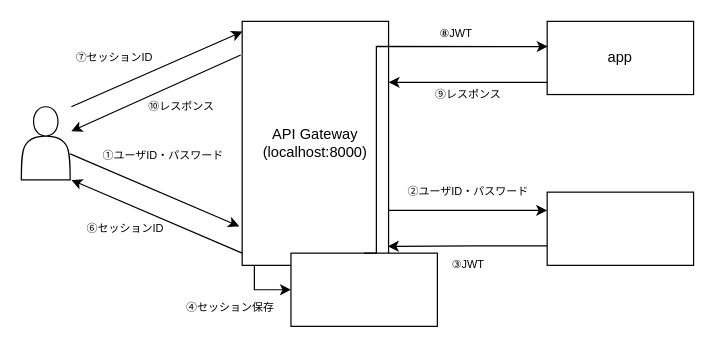
Some shapes in this 715 by 348 pixel diagram are drawn without their labels. Each missing label, with the centre of its shape:
authenticator: (620,228)
session (セッションID: JWT): (363,289)
